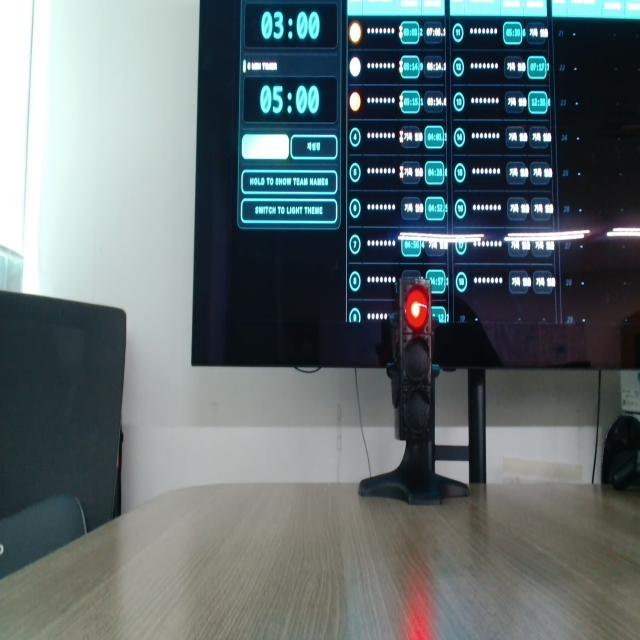red_light: (405, 286, 430, 332)
